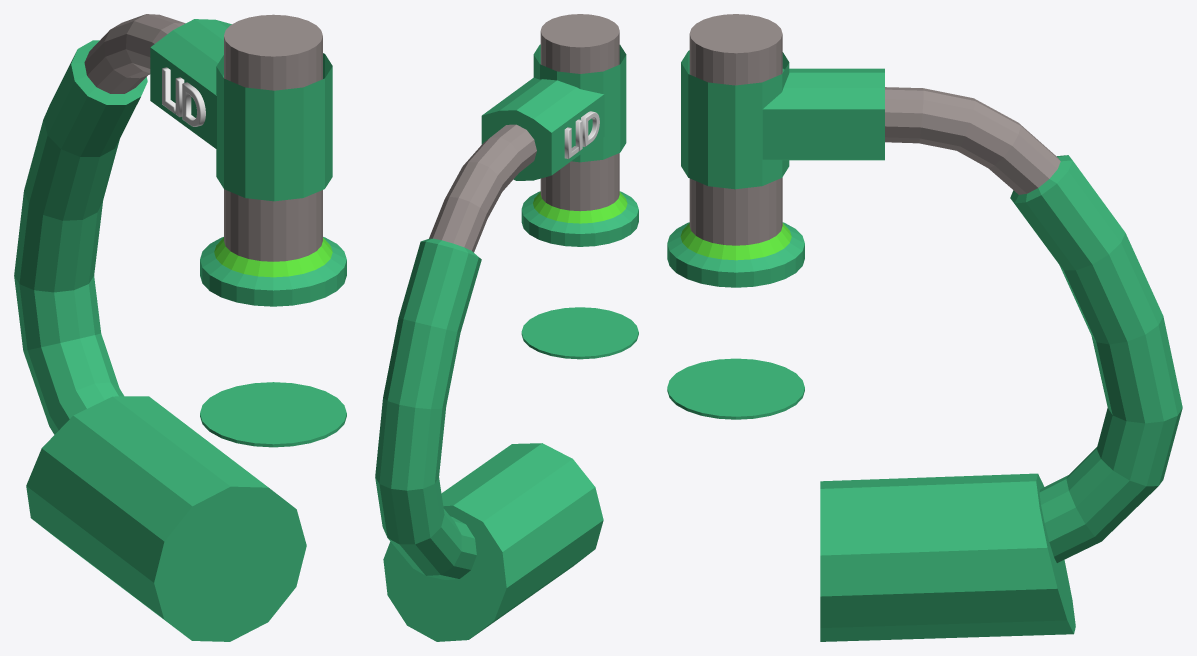
File: SleeveMachine.fbx
3 views of the same model, side by side, from view 1: azimuth 30°, elevation 25°; view 2: azimuth 150°, elevation 25°; view 3: azimuth 270°, elevation 25° (orthographic). The views are drawn at different scales.
Visible parts, largest first — view 1: Circle.003, Cylinder.002, Text.008; view 2: Circle.003, Cylinder.002, Text.008; view 3: Circle.003, Cylinder.002.
Part boxes in pixels (x1,y1,x2,y2): Circle.003: (14,14,332,641); Cylinder.002: (200,14,346,447); Text.008: (162,67,205,126); Circle.003: (375,44,626,641); Cylinder.002: (521,14,638,359); Text.008: (564,111,599,158); Circle.003: (681,50,1182,641); Cylinder.002: (667,14,804,419).
Bounding box in the file's own units: 16.25 × 63.7 × 49.61.
